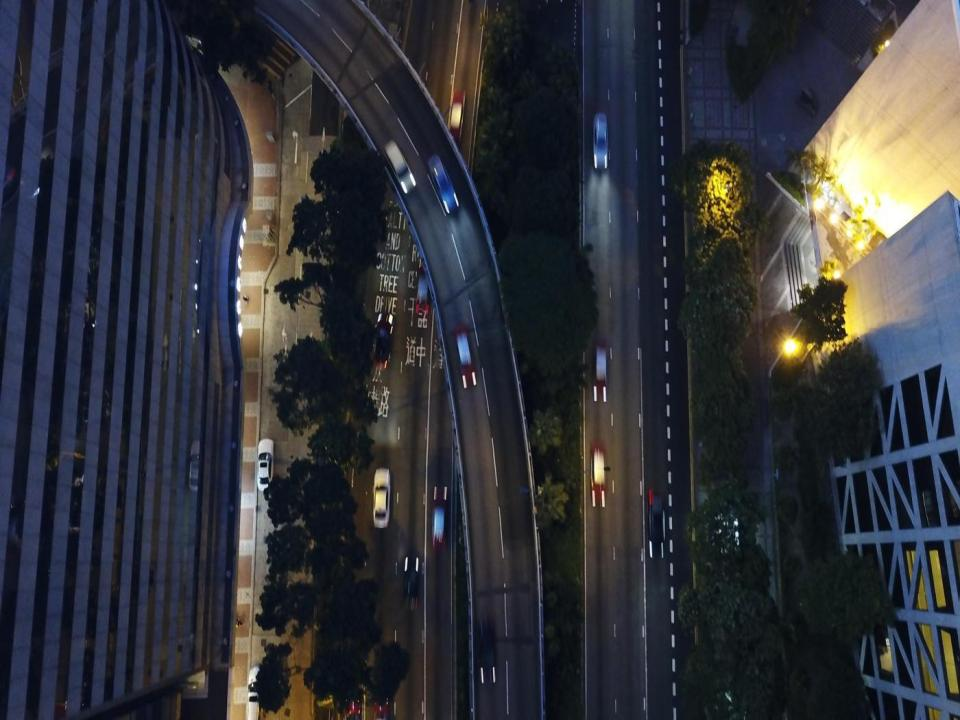car: (429, 154, 459, 216), (453, 324, 477, 390), (474, 616, 496, 685), (445, 89, 466, 150), (647, 491, 665, 557), (430, 485, 448, 547), (592, 113, 610, 171), (373, 314, 393, 366), (415, 255, 432, 315), (373, 469, 390, 528), (592, 443, 607, 509), (402, 556, 419, 612), (257, 439, 274, 490), (594, 343, 607, 403), (374, 688, 390, 719), (346, 692, 362, 717)
van: (384, 142, 417, 194)
